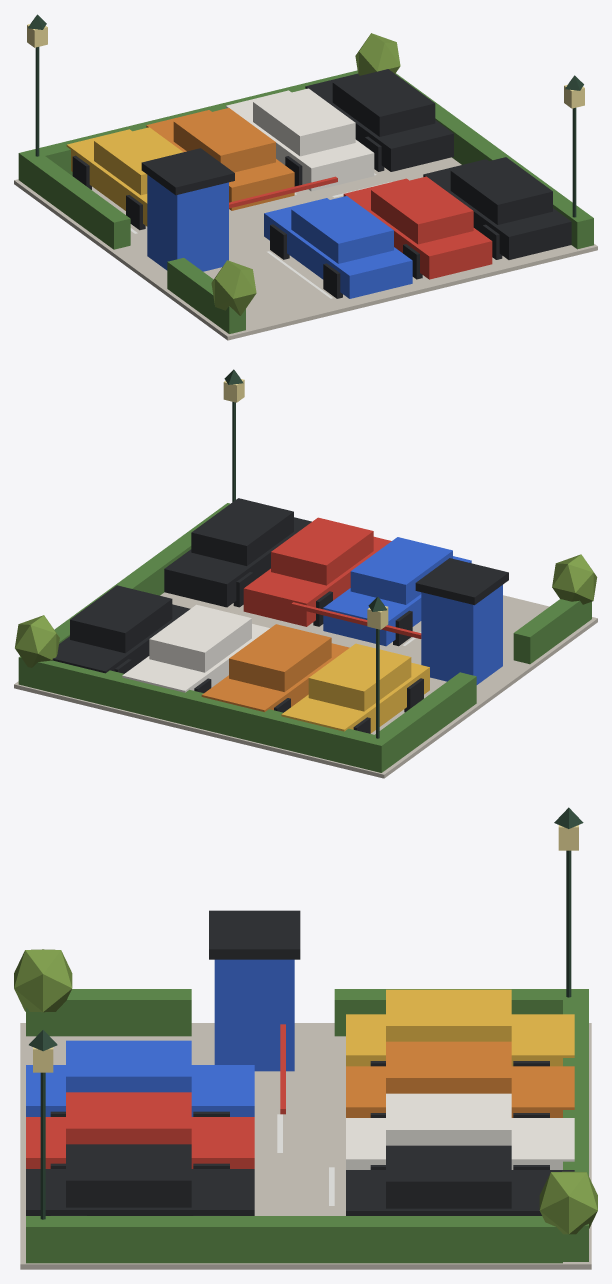
Rendered from Avlu_otopark_cinar_Hafif.fbx.
The picture shows the model from 3 angles, top to bottom: view 1: azimuth 30°, elevation 25°; view 2: azimuth 150°, elevation 25°; view 3: azimuth 270°, elevation 25°; orthographic projection. The views are drawn at different scales.
Visible parts, largest first — view 1: Avlu_otopark_cinar_Hafif; view 2: Avlu_otopark_cinar_Hafif; view 3: Avlu_otopark_cinar_Hafif.
Part boxes in pixels (x1,y1,x2,y2): Avlu_otopark_cinar_Hafif: [14, 14, 597, 340]; Avlu_otopark_cinar_Hafif: [14, 369, 597, 778]; Avlu_otopark_cinar_Hafif: [14, 807, 597, 1269].
Bounding box in the file's own units: 10.22 × 4.45 × 10.22.
